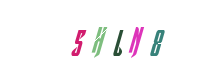5: (38, 0, 118, 80)
8: (101, 0, 181, 80)
H: (66, 0, 146, 80)
L: (70, 0, 150, 80)
N: (88, 0, 168, 80)
